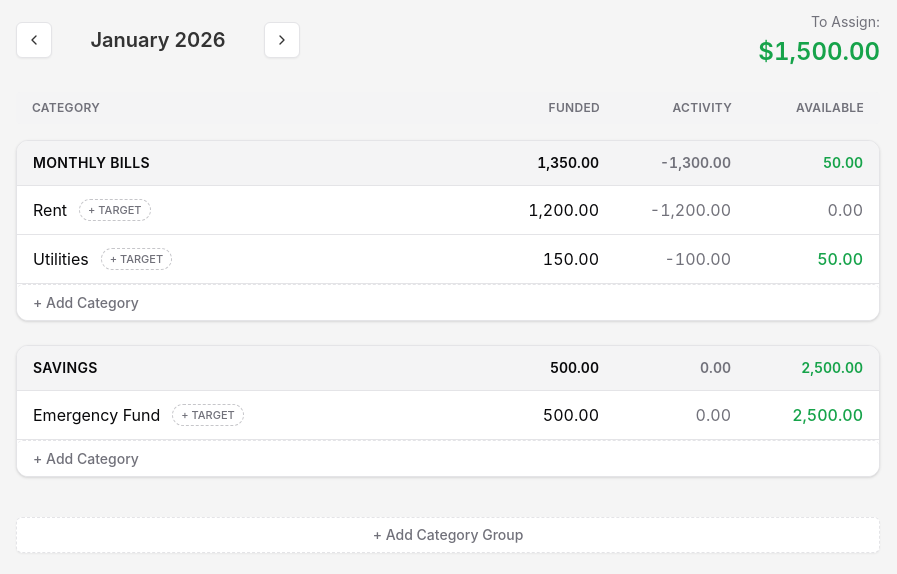
Scenario: CategoryRow › should allow editing funded amount by clicking
This screenshot has width=897, height=574.
expect the button "Rent" is shown: met, box [25,194,75,226]
Click the text "1,200.00".
click(564, 210)  # box [528,200,599,220]
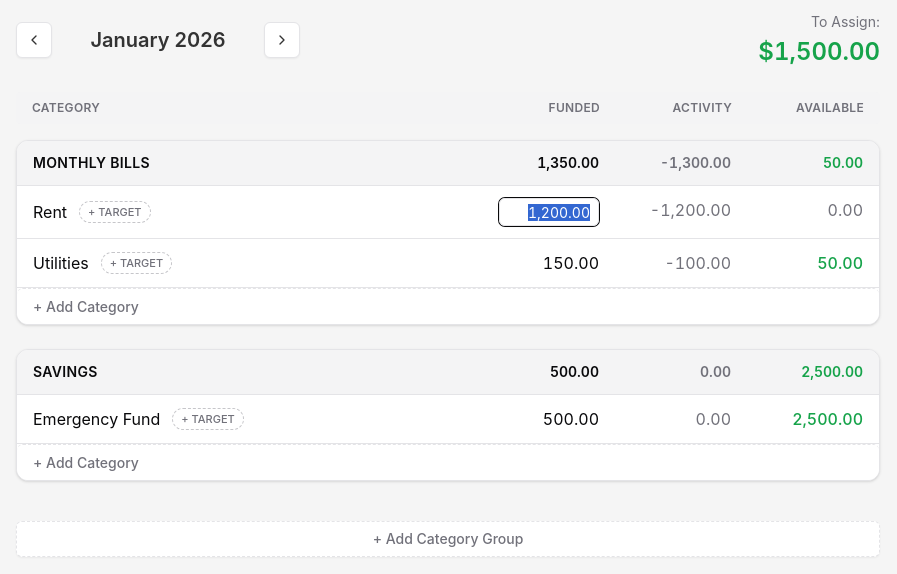
expect the field is shown: met, box [499,198,599,226]
